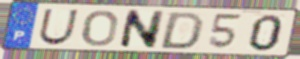0: (247, 14, 285, 53)
5: (206, 12, 245, 51)
D: (157, 11, 207, 50)
N: (117, 9, 167, 50)
O: (81, 9, 119, 48)
U: (37, 8, 81, 47)
